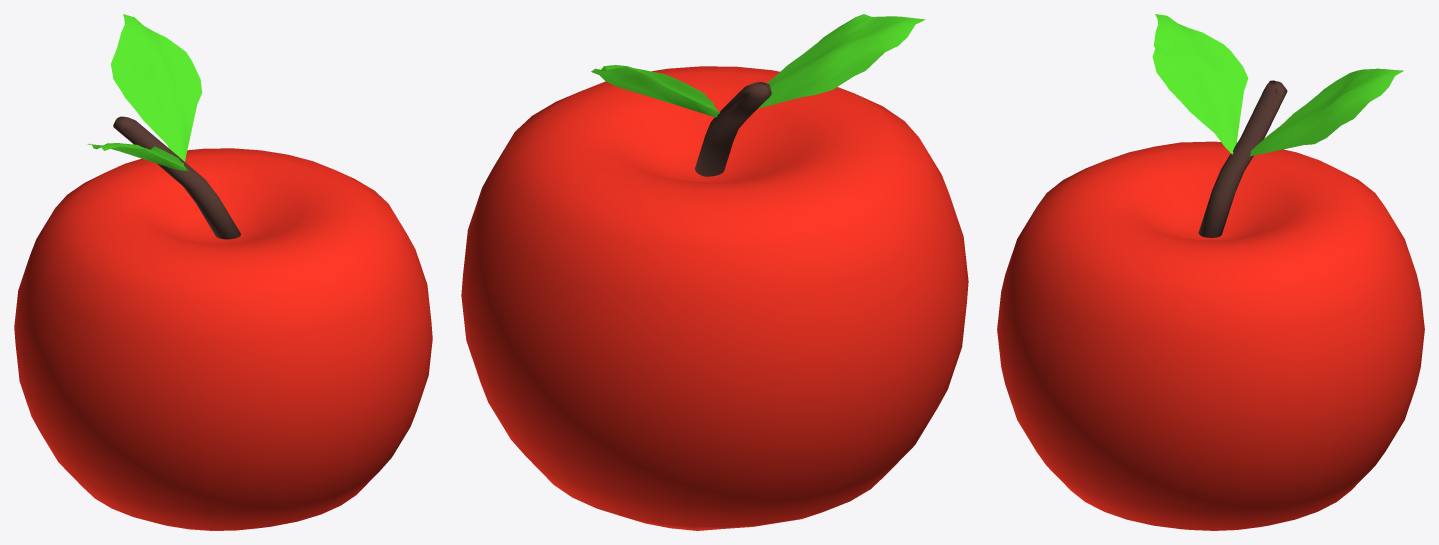
Rendered from apple.glb.
3 renders of one model, left to right at view 1: azimuth 30°, elevation 25°; view 2: azimuth 150°, elevation 25°; view 3: azimuth 270°, elevation 25°, orthographic. The views are drawn at different scales.
Visible parts, largest first — view 1: Sphere, Plane.001, Cylinder, Plane; view 2: Sphere, Plane, Cylinder, Plane.001; view 3: Sphere, Plane, Plane.001, Cylinder.
Part boxes in pixels (box(x1,y1,x2,y2)): Sphere: box(14, 148, 432, 530); Plane.001: box(111, 14, 202, 161); Cylinder: box(113, 116, 240, 239); Plane: box(87, 143, 188, 171); Sphere: box(461, 66, 968, 530); Plane: box(758, 14, 925, 108); Cylinder: box(695, 82, 771, 176); Plane.001: box(591, 65, 719, 117); Sphere: box(997, 141, 1424, 530); Plane: box(1152, 14, 1248, 154); Plane.001: box(1250, 68, 1403, 156); Cylinder: box(1198, 80, 1287, 237).
Bounding box in the file's own units: 2 × 2.11 × 2.
